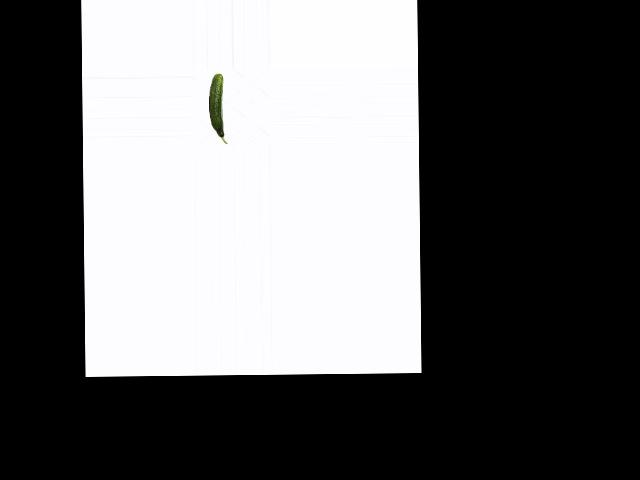cucumber: (208, 74, 227, 144)
